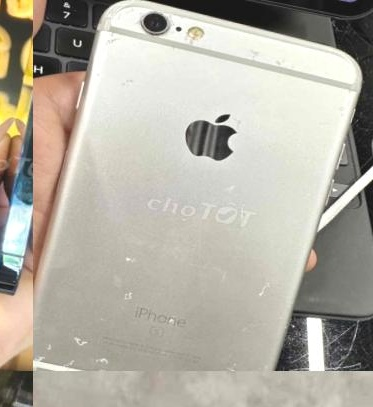scratch: (80, 0, 373, 106), (33, 315, 274, 371), (104, 240, 149, 311), (240, 258, 282, 320), (0, 384, 33, 407), (115, 68, 141, 93)
